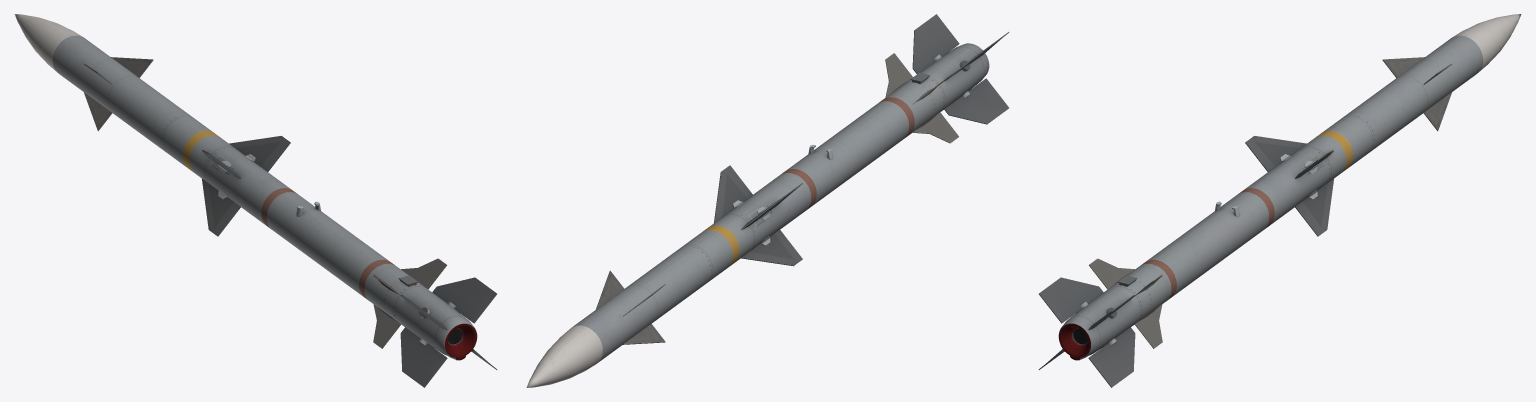
File: aam.glb
3 views of the same model, side by side, from view 1: azimuth 30°, elevation 25°; view 2: azimuth 150°, elevation 25°; view 3: azimuth 330°, elevation 25° (orthographic).
Visible parts, largest first — view 1: aim120, aim9; view 2: aim120, aim9; view 3: aim120, aim9.
Part boxes in pixels (bbox=[...]): aim120: bbox=[14, 14, 497, 387]; aim9: bbox=[84, 57, 446, 348]; aim120: bbox=[526, 14, 1009, 387]; aim9: bbox=[596, 53, 958, 344]; aim120: bbox=[1038, 14, 1521, 387]; aim9: bbox=[1089, 57, 1451, 348].
Size of the model in its own units: 0.3467 by 0.3467 by 3.65.
3 materials, 2 textured.
